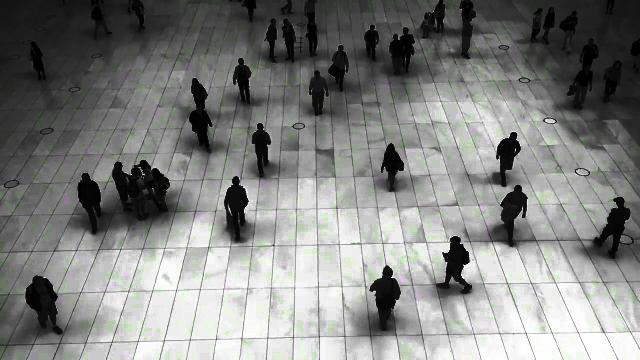berjalan: (590, 189, 628, 261), (25, 273, 65, 341), (436, 230, 474, 294), (369, 264, 407, 328), (220, 174, 252, 244), (72, 176, 106, 234), (187, 103, 219, 159), (500, 181, 524, 247), (376, 141, 404, 192), (493, 127, 517, 183), (86, 1, 114, 42), (304, 75, 330, 119), (252, 120, 270, 178), (233, 54, 253, 105), (332, 46, 346, 99), (363, 25, 381, 62), (564, 5, 574, 57)
